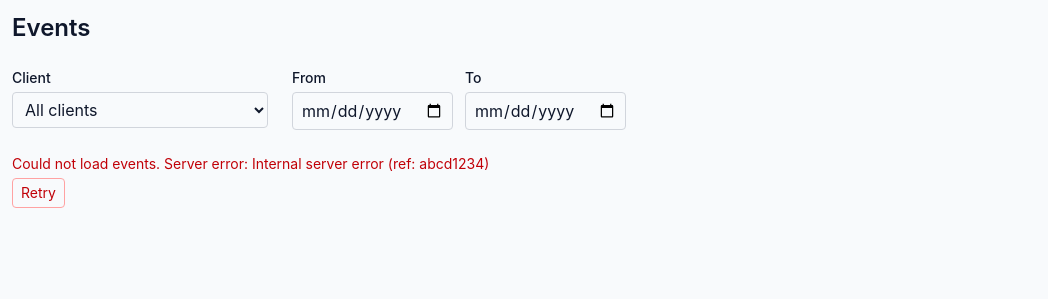
Scenario: EventsPage events table › shows the events error and retries
Expected: the text "Could not load events" shows "abcd1234", top-left (164, 155), bottom-right (489, 172)
Click the button "Retry". click: (38, 193)
box: top-left (12, 178), bottom-right (65, 208)
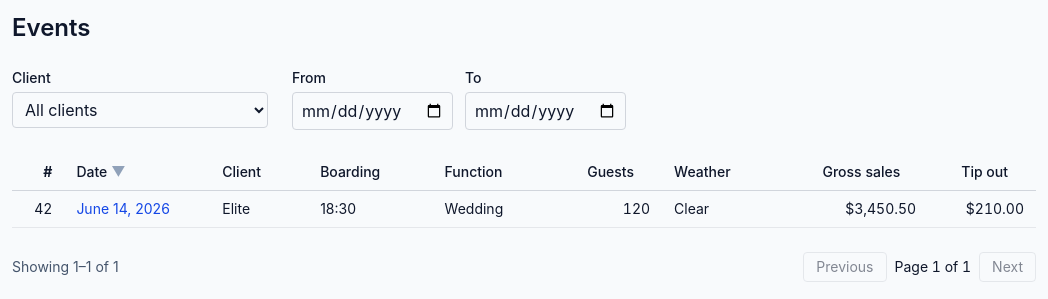
Expected: the link "June 14, 2026" is shown, top-left (76, 200), bottom-right (170, 217)
